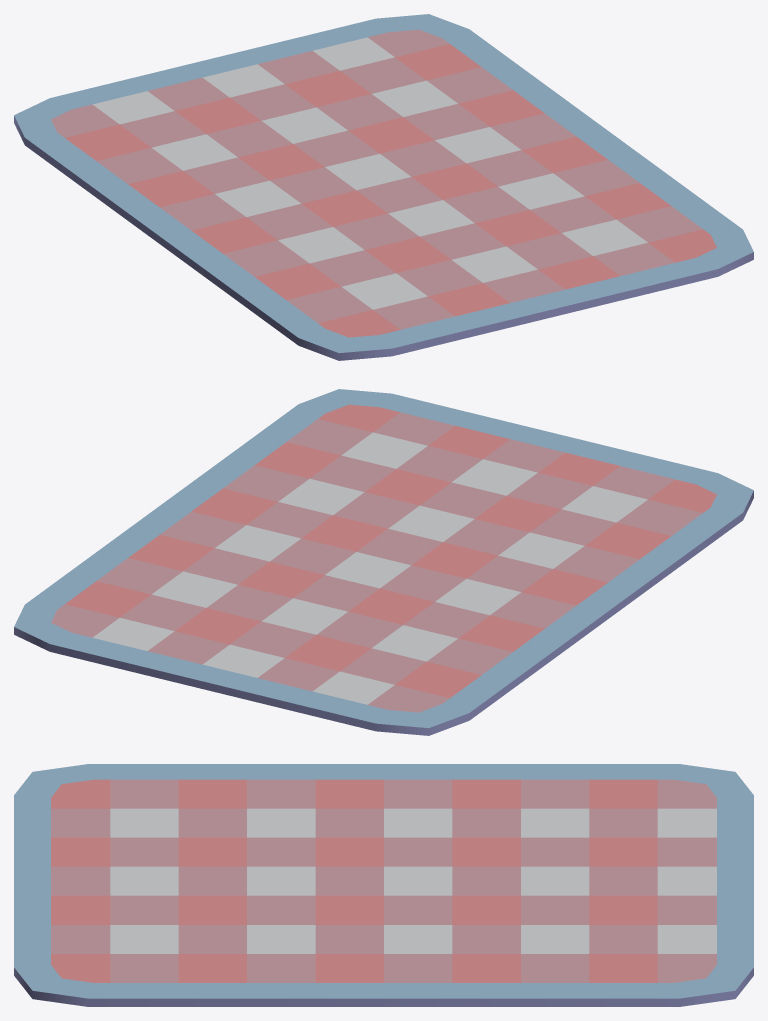
Rendered from carpet-rectangle-border-picnic.glb.
The picture shows the model from 3 angles, top to bottom: view 1: azimuth 30°, elevation 25°; view 2: azimuth 150°, elevation 25°; view 3: azimuth 270°, elevation 25°; orthographic projection. The views are drawn at different scales.
Visible parts, largest first — view 1: carpet-rectangle-border-picnic; view 2: carpet-rectangle-border-picnic; view 3: carpet-rectangle-border-picnic.
Part boxes in pixels (x1,y1,x2,y2): carpet-rectangle-border-picnic: (14, 14, 753, 360); carpet-rectangle-border-picnic: (14, 389, 753, 735); carpet-rectangle-border-picnic: (14, 764, 753, 1006).
Bounding box in the file's own units: 1.5 × 0.025 × 2.
